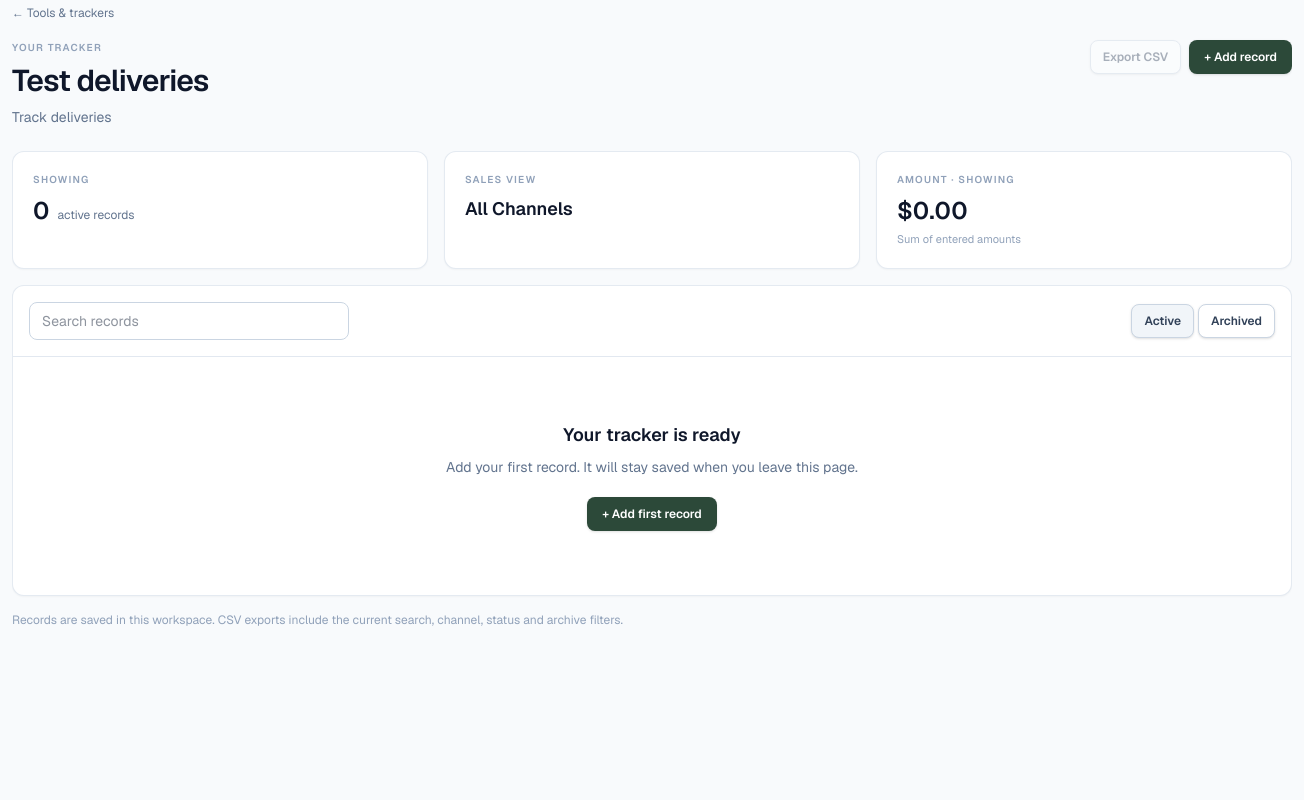
Test: submits the visible form values and selected sales channel, then shows the saved record
Click the button "+ Add first record".
click(652, 514)  # box [587, 496, 717, 530]
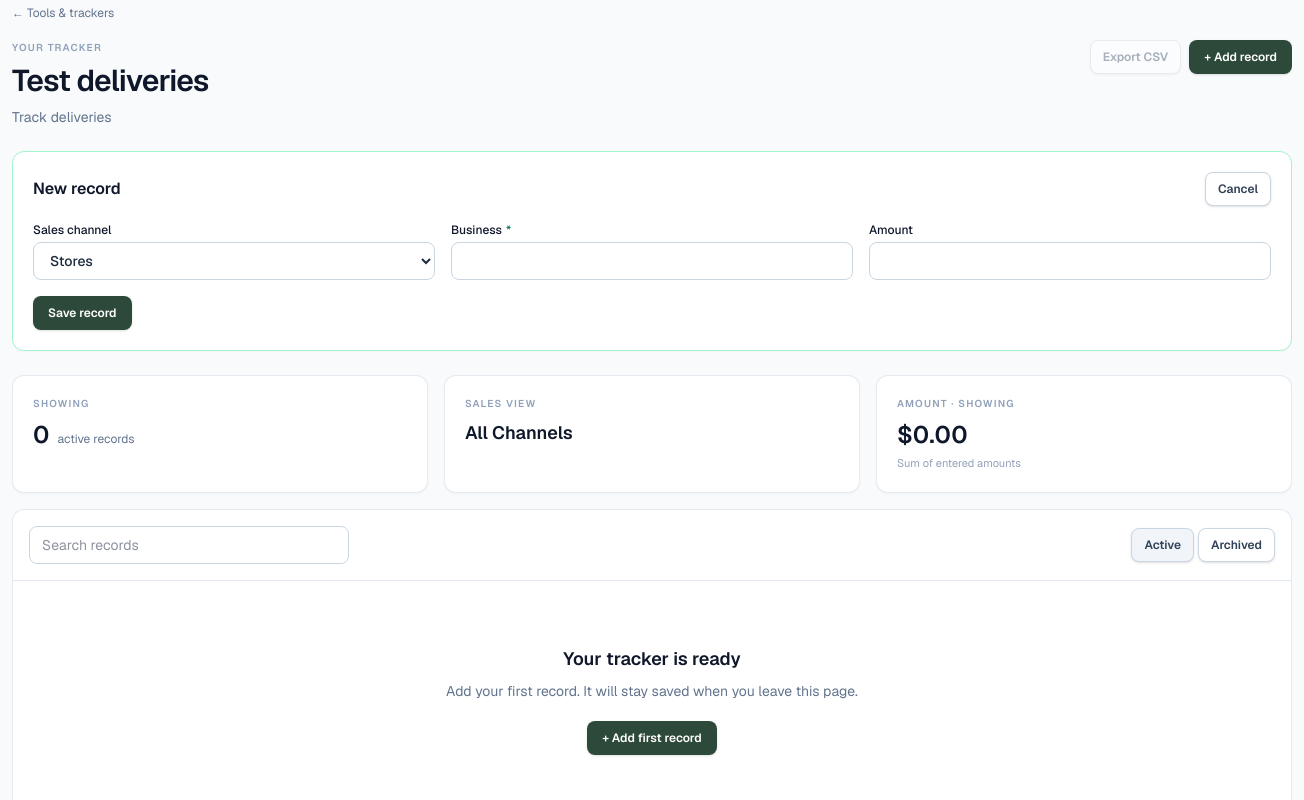
Type "Test Market" into the field labelled "Business*".
click(652, 261); type("Test Market")  # box [451, 242, 853, 280]
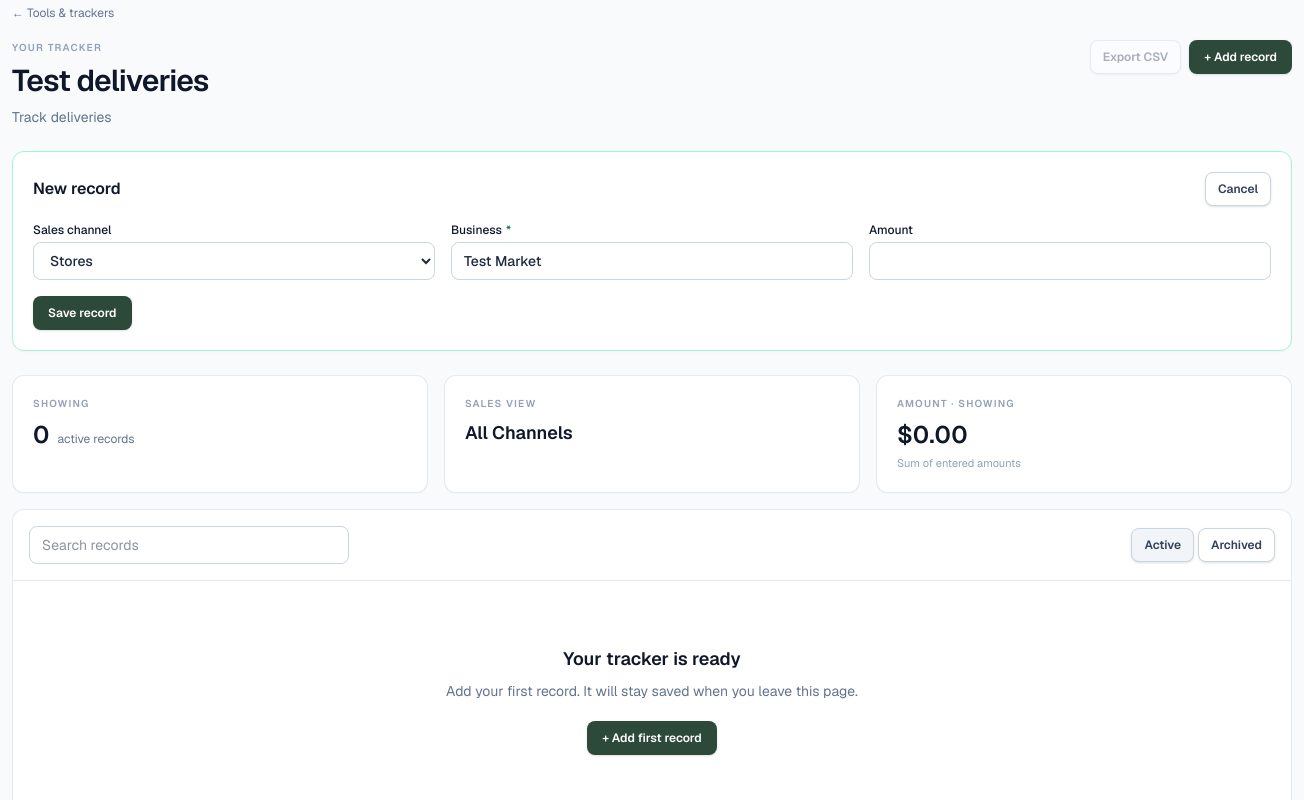
Type "12.50" into the number field labelled "Amount".
click(1070, 261); type("12.50")  # box [869, 242, 1271, 280]
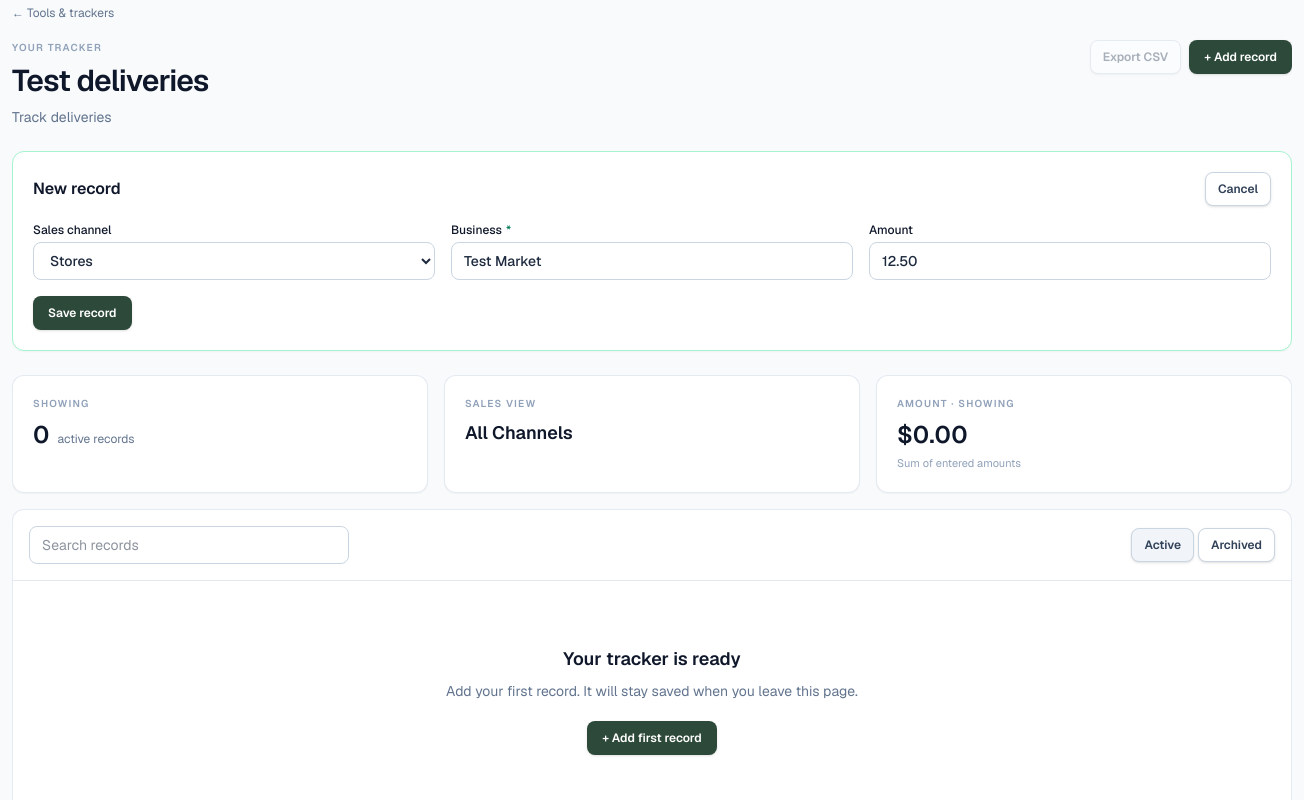
Select "Bulk" in the dropdown labelled "Sales channel" at (234, 261), box [33, 242, 435, 280]
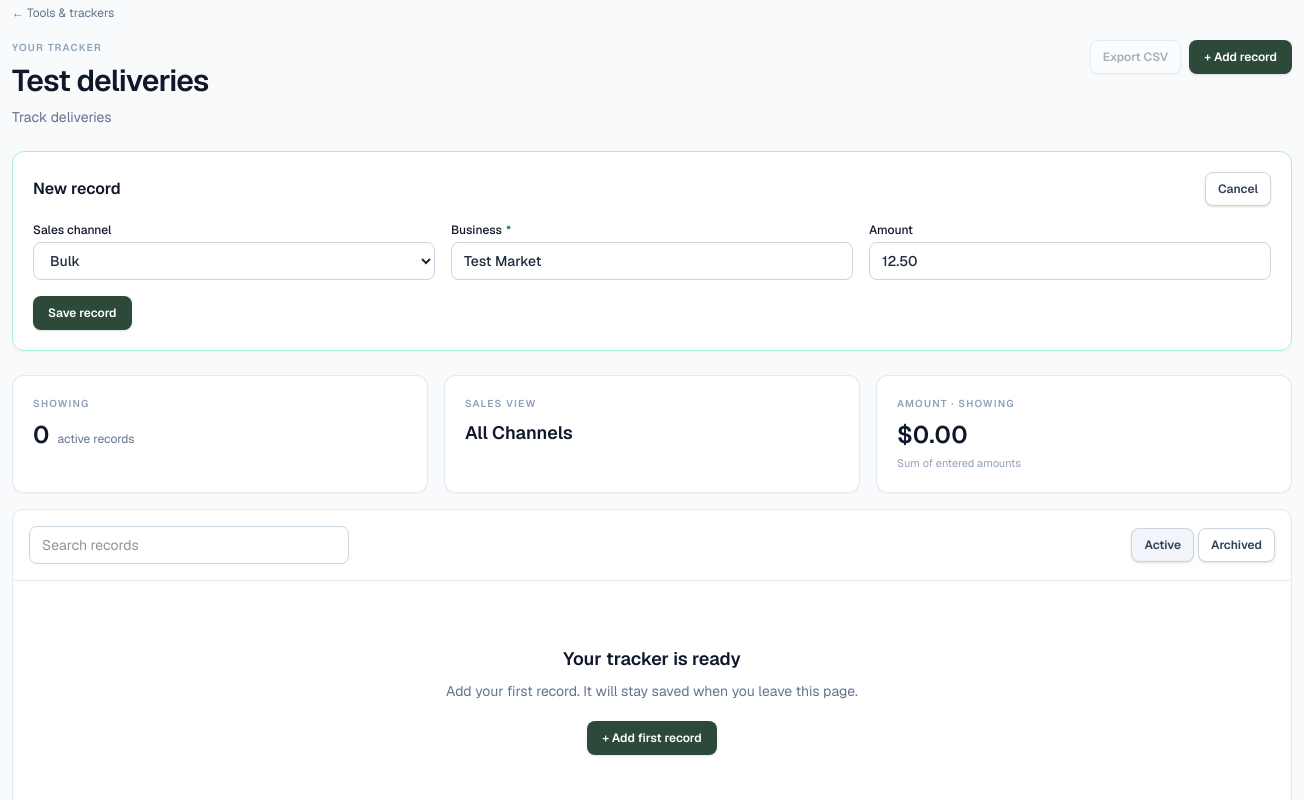
Click the button "Save record".
click(82, 313)  # box [33, 296, 132, 330]
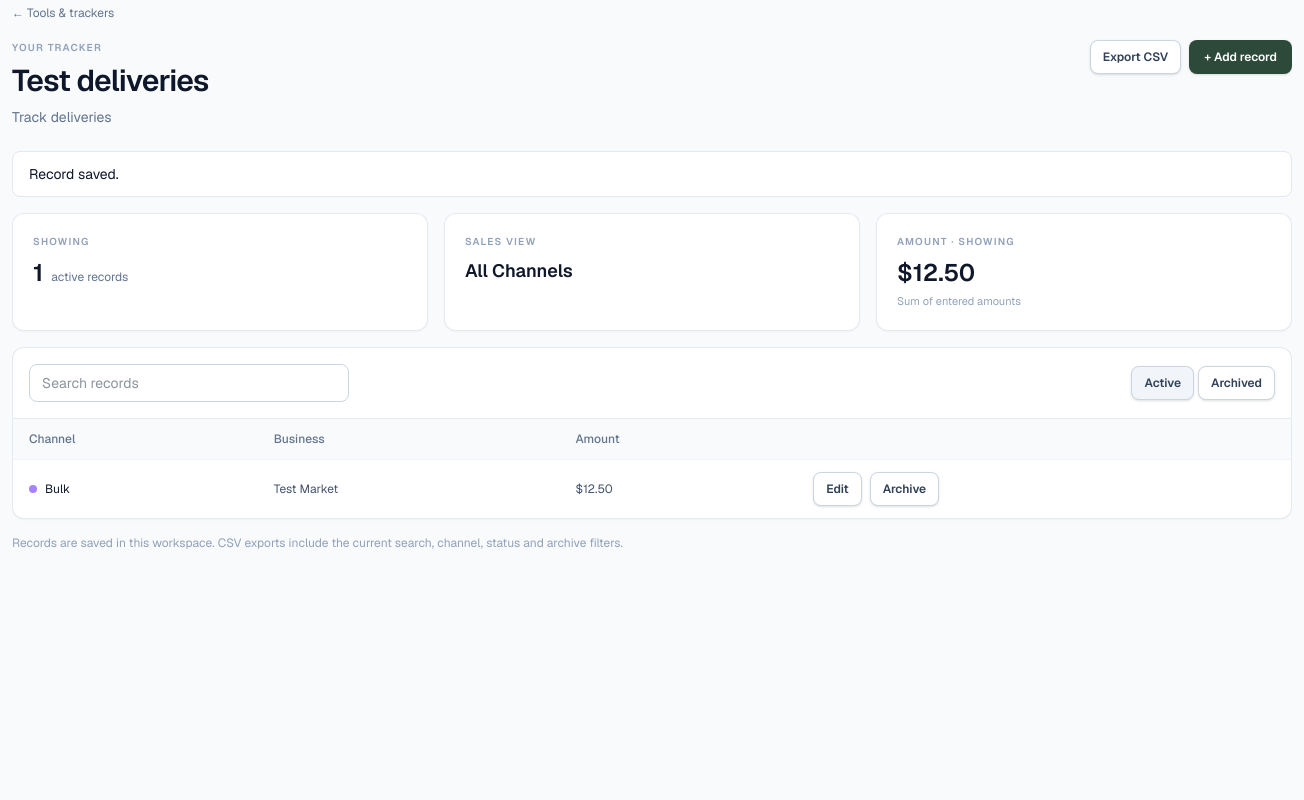
Now the text "Test Market" is shown, box [258, 459, 560, 518]
Now the text "Record saved." is shown, box [12, 151, 1292, 197]
